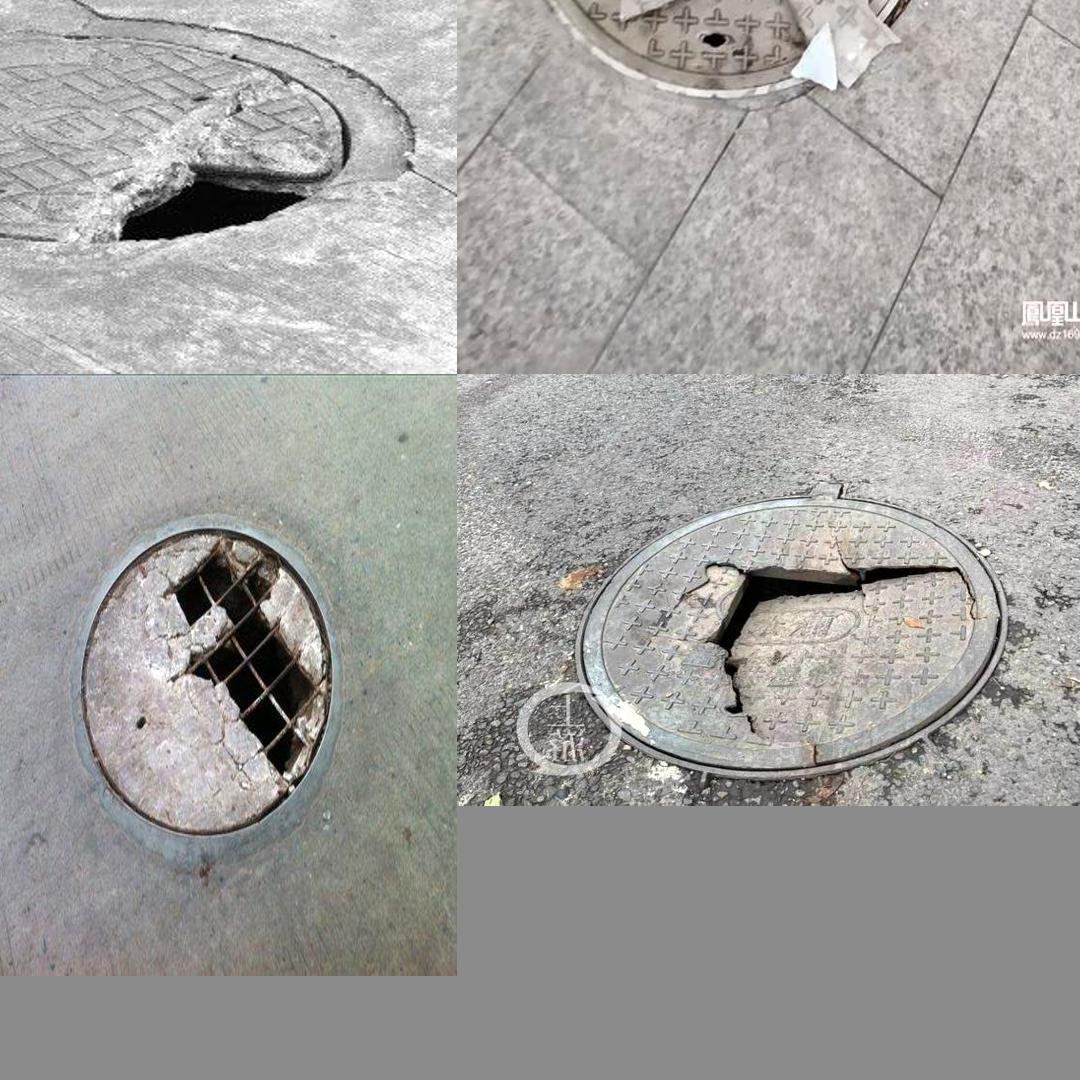broke: (536, 490, 1015, 777), (61, 508, 359, 862), (0, 14, 334, 239), (510, 0, 971, 134)
